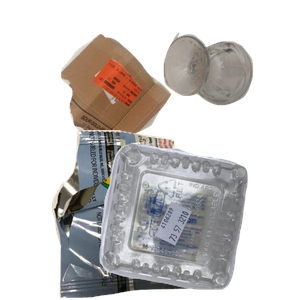cardboard: (58, 31, 222, 188)
glass: (161, 30, 300, 128)
plastic: (97, 141, 300, 300)
trash: (49, 130, 235, 300)
